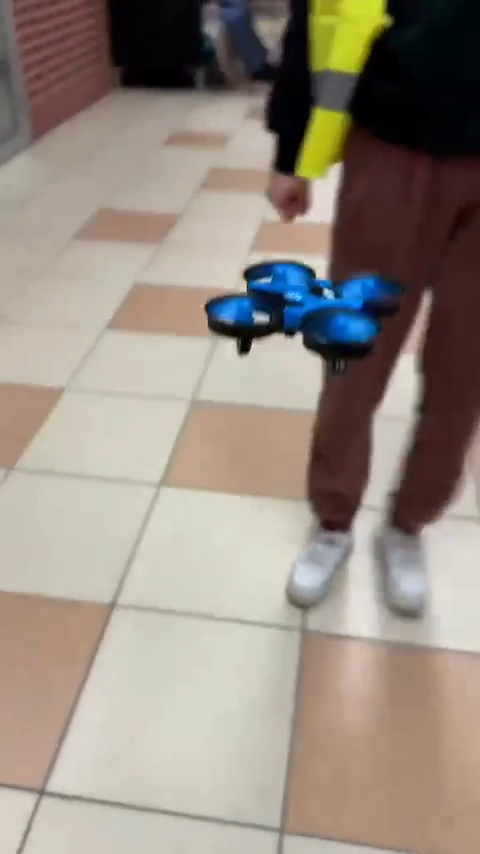drone: (203, 261, 412, 361)
